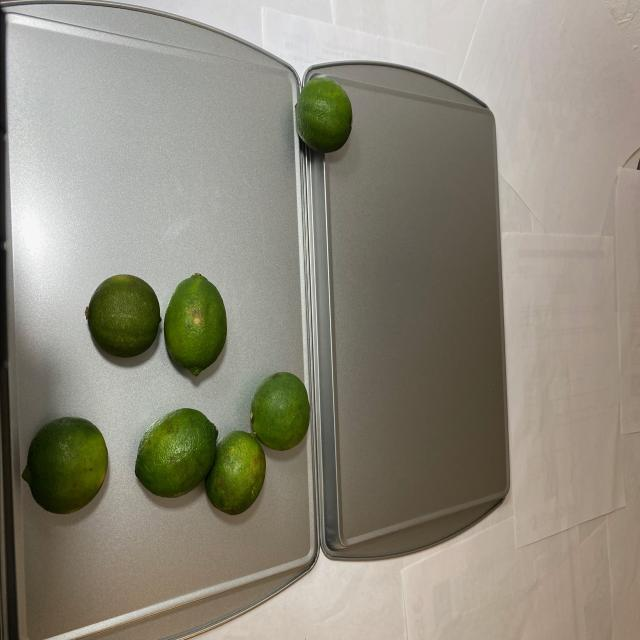lemon: (21, 268, 310, 532), (295, 76, 351, 154)
